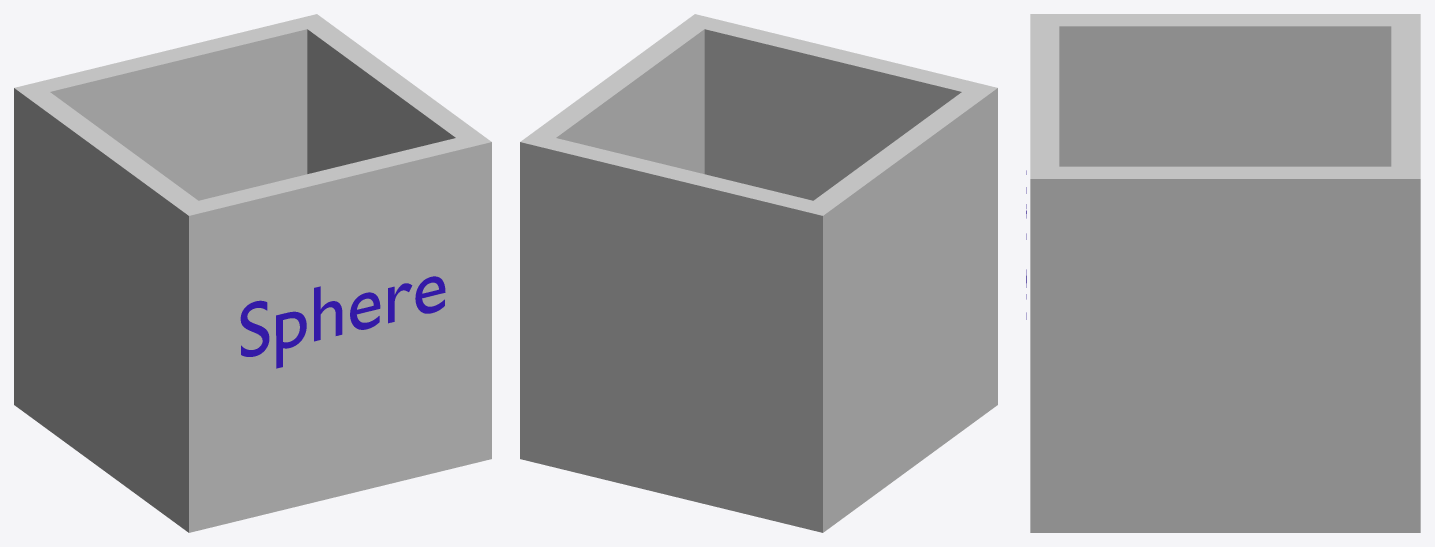
3 renders of one model, left to right at view 1: azimuth 30°, elevation 25°; view 2: azimuth 150°, elevation 25°; view 3: azimuth 270°, elevation 25°, orthographic. The views are drawn at different scales.
Visible parts, largest first — view 1: Text; view 2: Text; view 3: Text.
Boxes of the visible parts, box(x1,y1,x2,y2) form: Text: box(14, 14, 491, 532); Text: box(520, 14, 997, 532); Text: box(1026, 14, 1420, 532).
Bounding box in the file's own units: 200 × 200 × 202.
